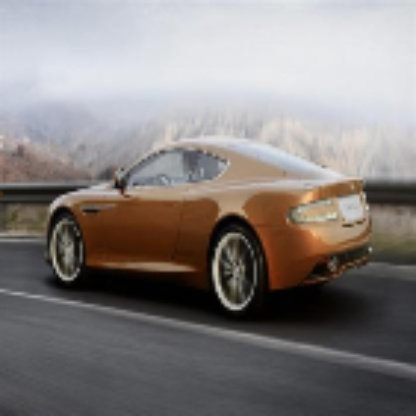Vehicle: (44, 134, 377, 326)
